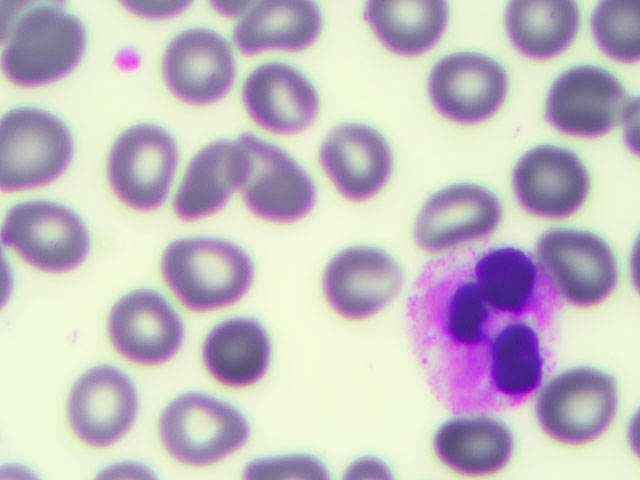Platelets: (108, 43, 142, 81)
RBC: (5, 194, 92, 281), (97, 126, 184, 213), (163, 140, 250, 227), (233, 138, 320, 225), (328, 122, 415, 209), (249, 64, 336, 151), (164, 28, 251, 115), (1, 108, 87, 195), (1, 1, 87, 87), (429, 53, 512, 117), (545, 66, 628, 130), (517, 146, 600, 210), (424, 179, 507, 243), (324, 247, 407, 311), (167, 238, 250, 302), (101, 288, 184, 352), (73, 366, 156, 430), (153, 399, 236, 463), (199, 319, 282, 383), (428, 413, 511, 477), (543, 374, 626, 438), (538, 235, 621, 299), (240, 1, 323, 64), (367, 1, 450, 64), (503, 1, 586, 64)
WBC: (401, 246, 569, 411)
